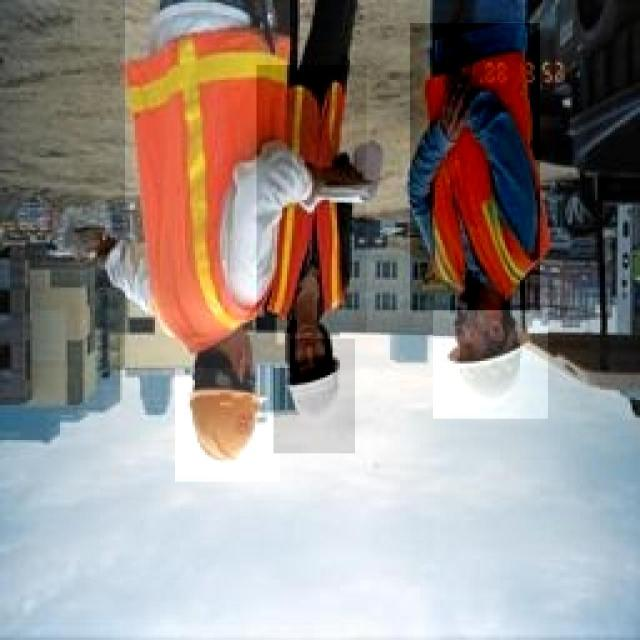Helmet: (175, 339, 280, 482), (434, 310, 548, 419), (273, 339, 355, 453)
Safety Vest: (125, 0, 290, 368), (410, 23, 540, 310), (257, 65, 367, 333)
